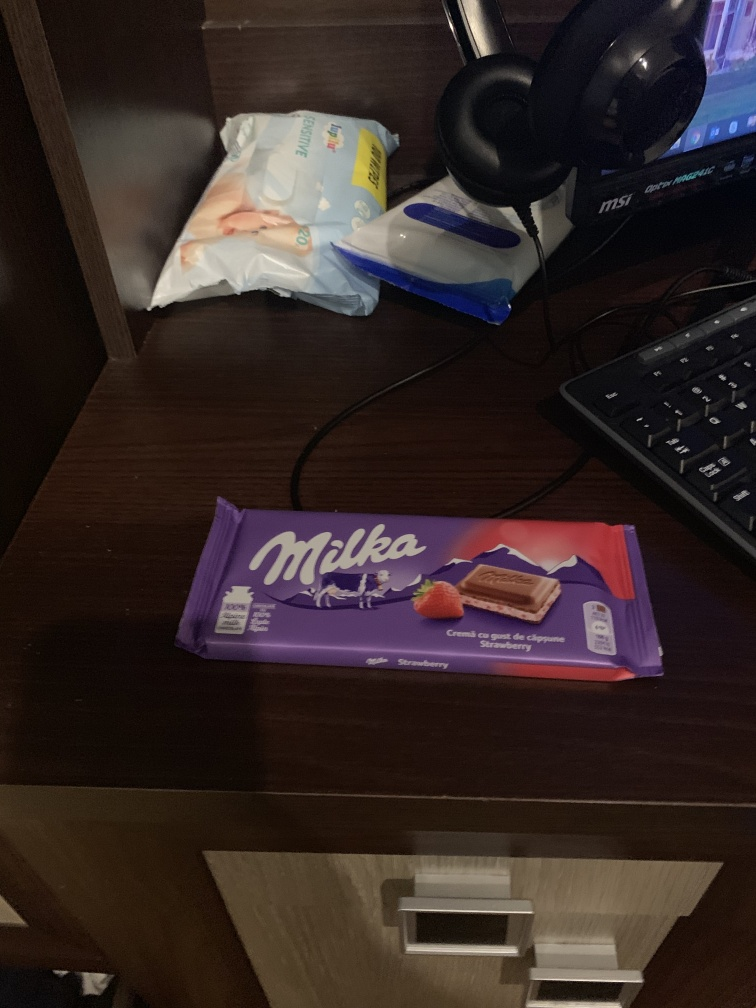milka: (171, 497, 674, 692)
